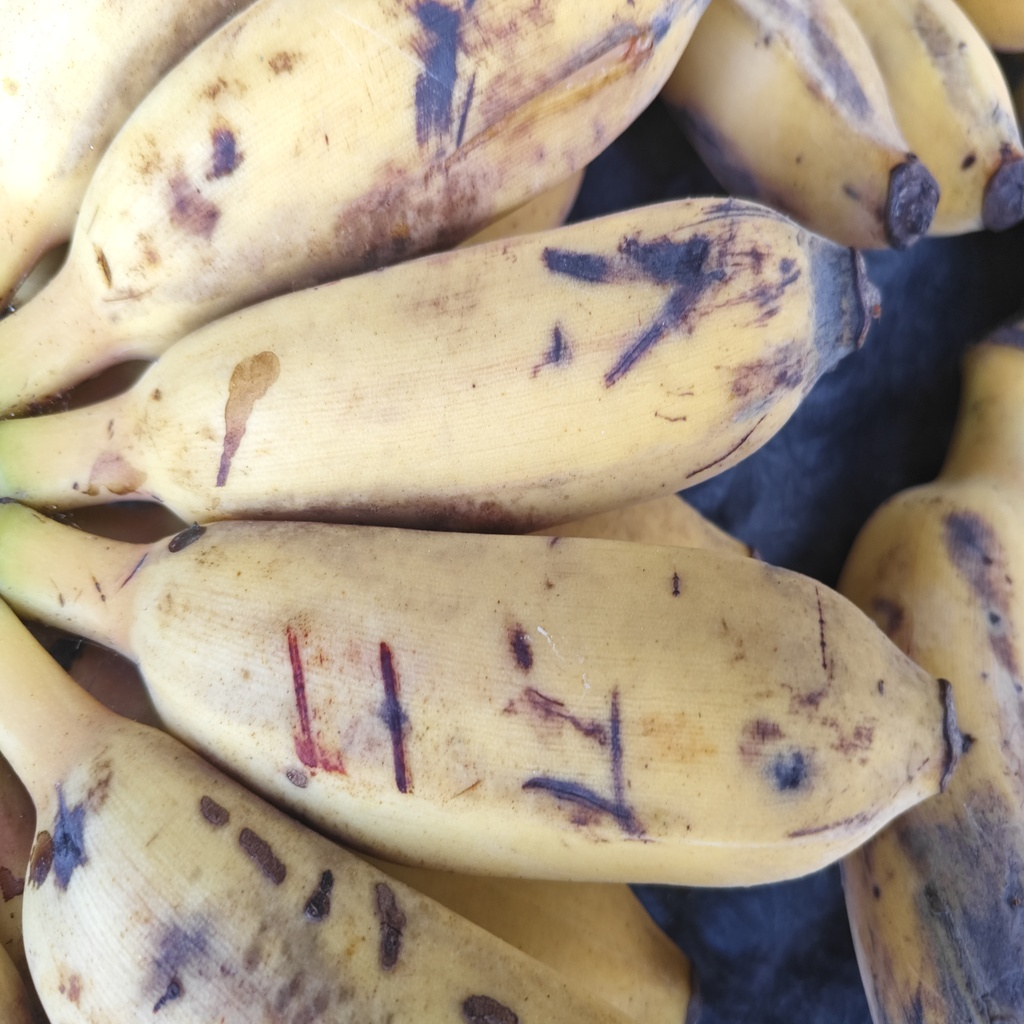healthy: (124, 194, 876, 527)
unhealthy: (146, 520, 961, 894)
